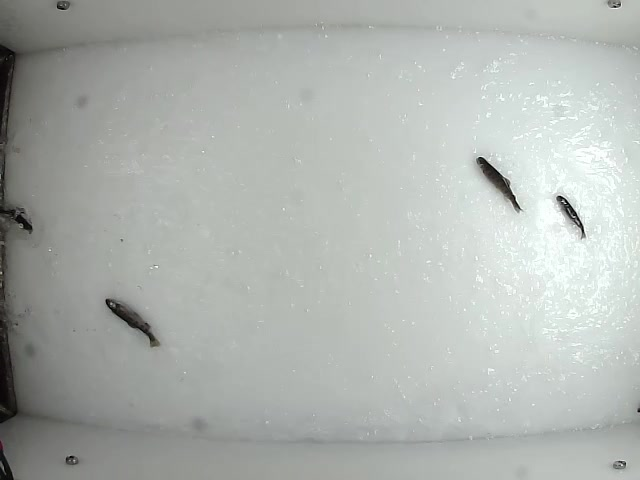fish: (475, 154, 524, 216), (104, 296, 161, 348), (554, 193, 587, 242)
